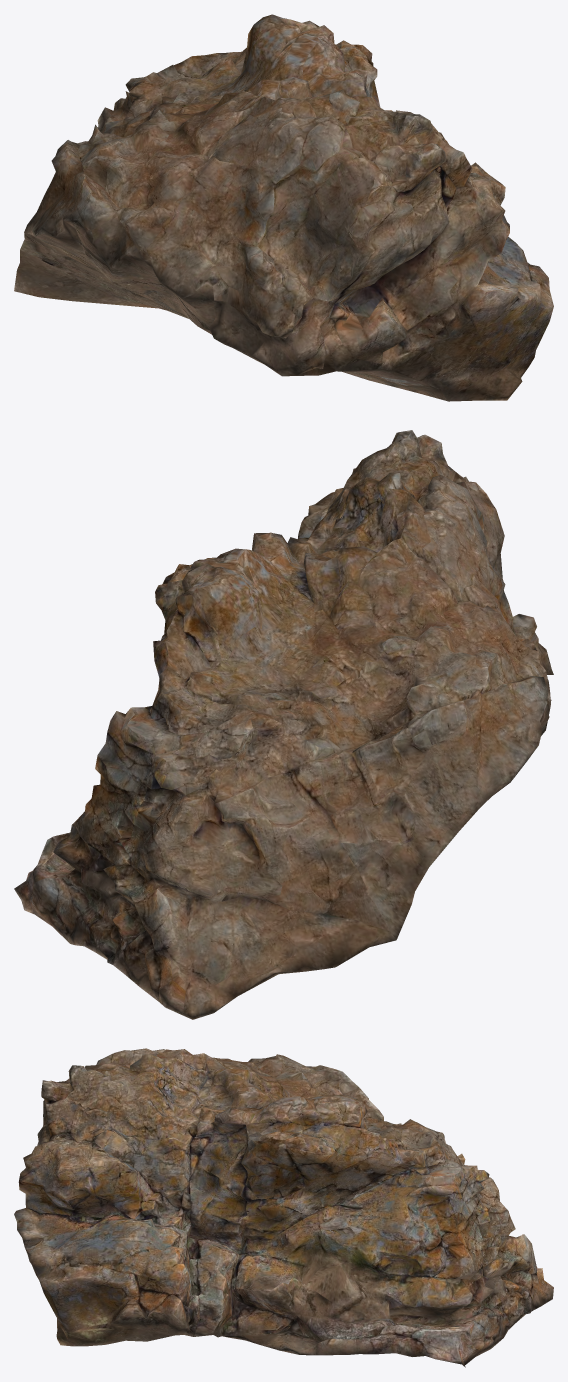
File: rock_a.glb
3 renders of one model, top to bottom at view 1: azimuth 30°, elevation 25°; view 2: azimuth 150°, elevation 25°; view 3: azimuth 270°, elevation 25°, orthographic. The views are drawn at different scales.
Parts seen in each view (by area): view 1: boulder_01; view 2: boulder_01; view 3: boulder_01.
Boxes of the visible parts, box(x1,y1,x2,y2) form: boulder_01: box(14, 14, 553, 401); boulder_01: box(14, 430, 553, 1019); boulder_01: box(14, 1048, 553, 1367).
Bounding box in the file's own units: 1.28 × 1 × 1.83.
Materials: 1 (1 with a texture image).
